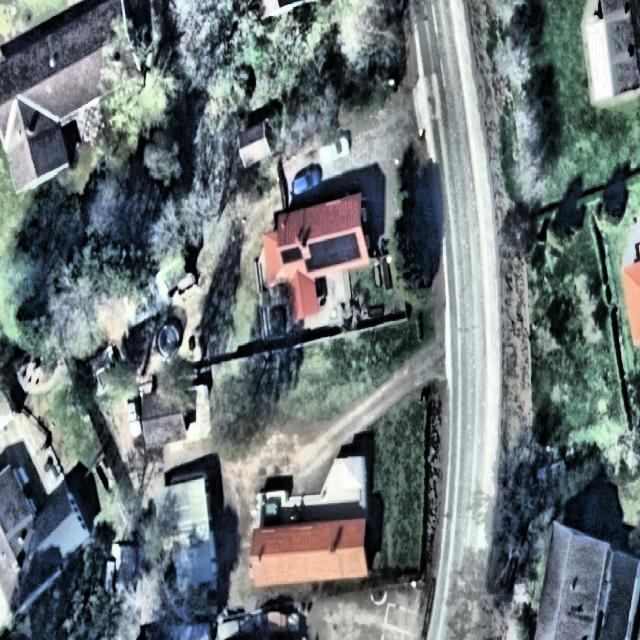roof_pv: (306, 226, 364, 282), (279, 244, 305, 266)
